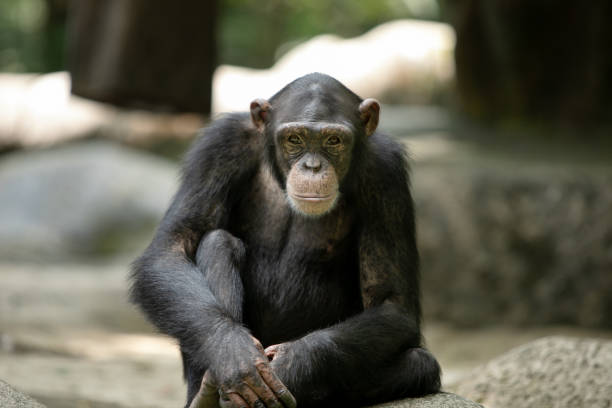chimpanzee: (233, 52, 383, 235)
